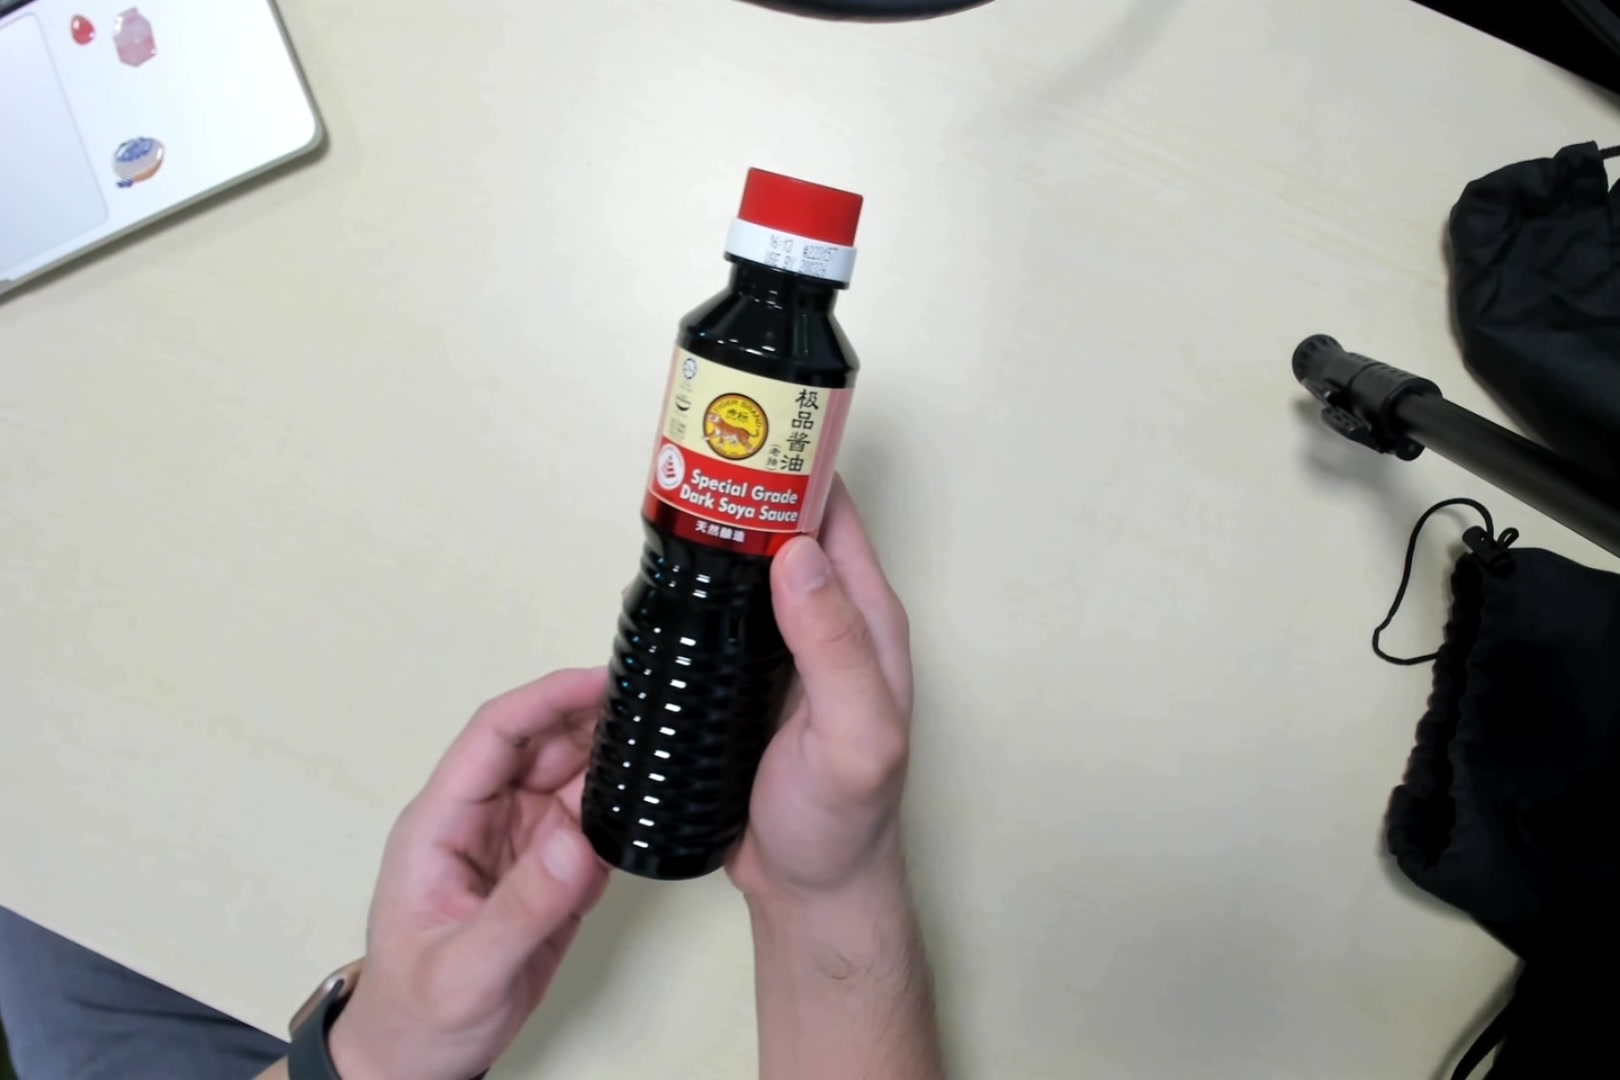DarkSoySauce_300-399g_Halal_NonHealthy: (598, 163, 857, 903)
